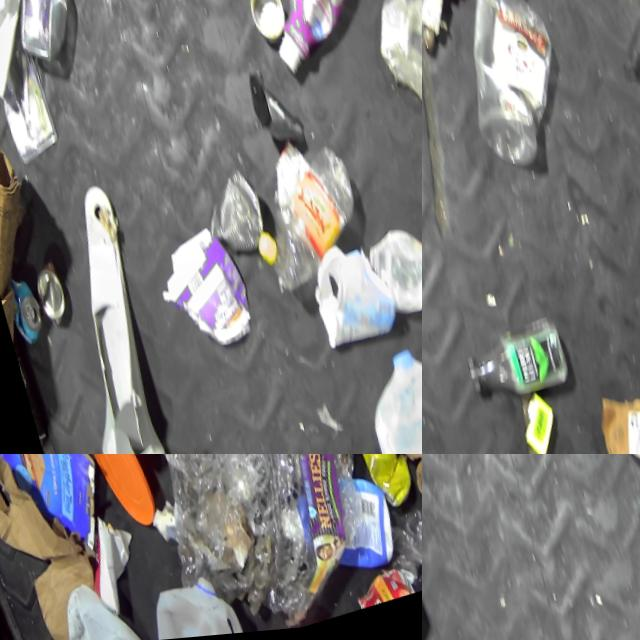can: (201, 171, 266, 263), (353, 454, 410, 522), (0, 275, 43, 348), (507, 396, 558, 454), (343, 572, 408, 617), (26, 262, 66, 329), (242, 0, 289, 52)
milk_jug: (348, 339, 422, 454), (47, 570, 154, 640), (131, 571, 236, 640), (0, 0, 55, 102)
non_white_jug: (144, 223, 256, 366), (0, 454, 107, 570), (243, 0, 380, 86)
plastic_bottle: (430, 0, 576, 185), (233, 148, 370, 304), (455, 320, 566, 415), (391, 499, 422, 600)
